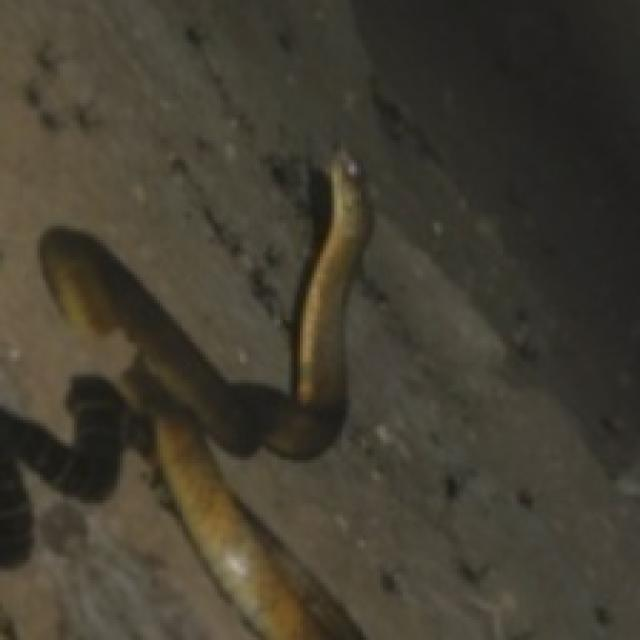king cobra: (40, 151, 369, 457)
